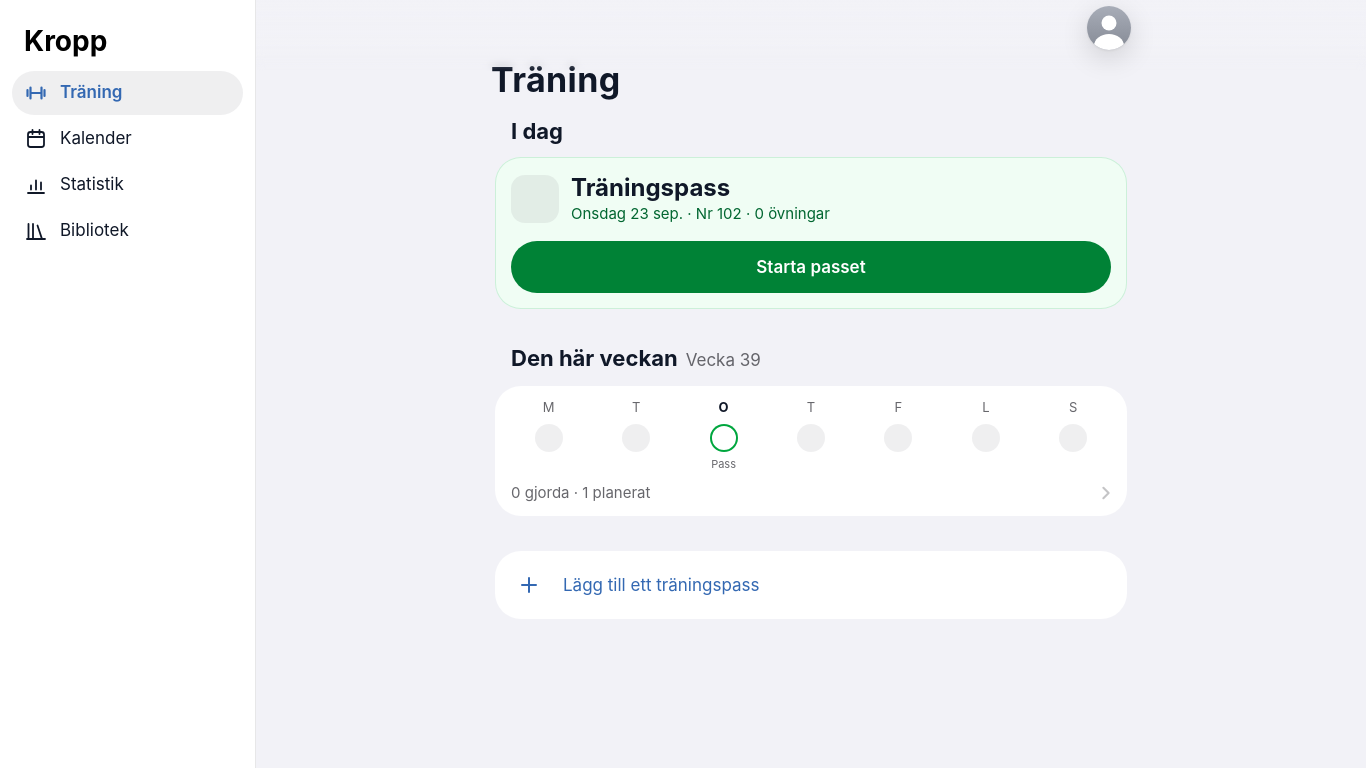
Test: plans another workout from a template beside an existing plan
The image size is (1366, 768).
Click the button with test id "open-planning": point(661, 585) x1=495 y1=551 x2=1127 y2=619
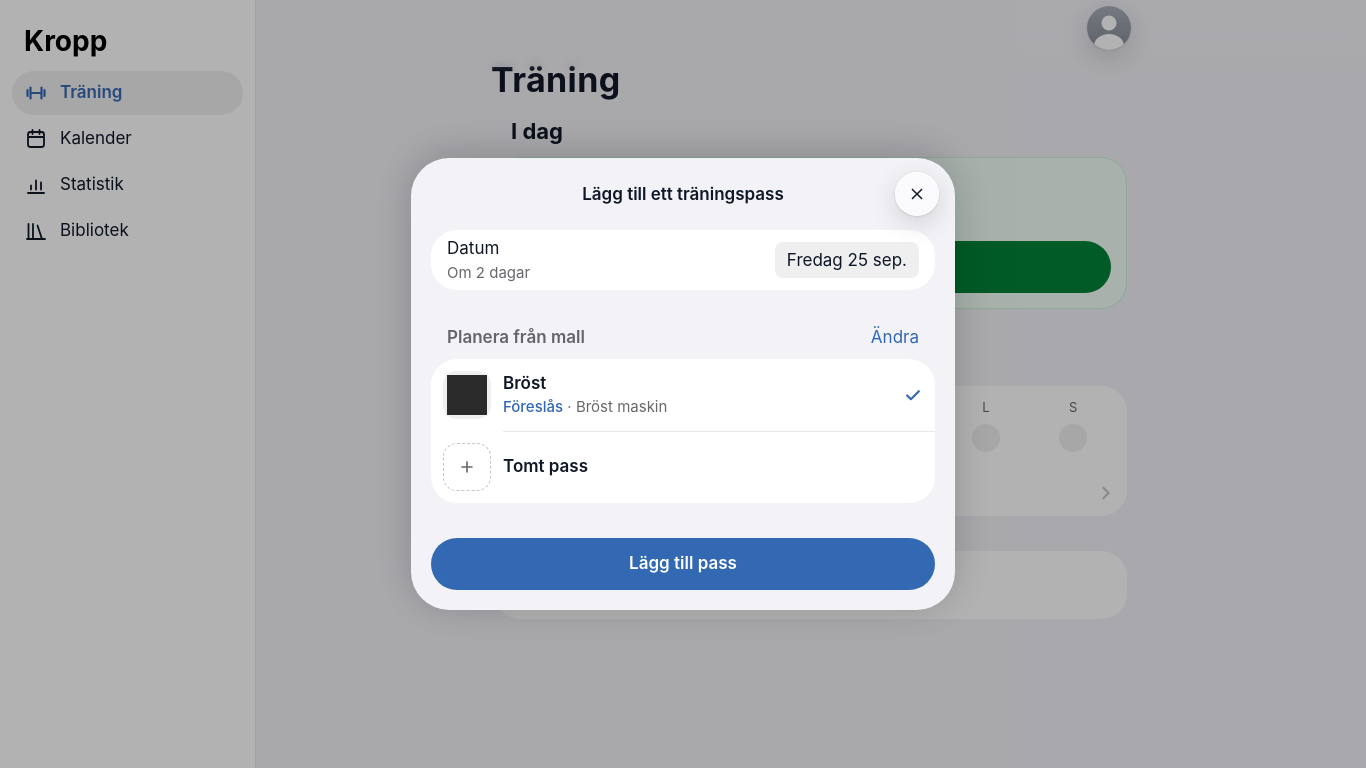
Expected: the text with class "font-semibold" reads "Bröst", x1=503 y1=373 x2=546 y2=393
Expected: the text with test id "next-date" reads "fredag 25 sep.", x1=787 y1=250 x2=907 y2=270
Expected: the text with test id "plan-days" reads "Om 2 dagar", x1=447 y1=263 x2=530 y2=282
Click the button with test id "confirm-plan": point(683, 564) x1=431 y1=538 x2=935 y2=590
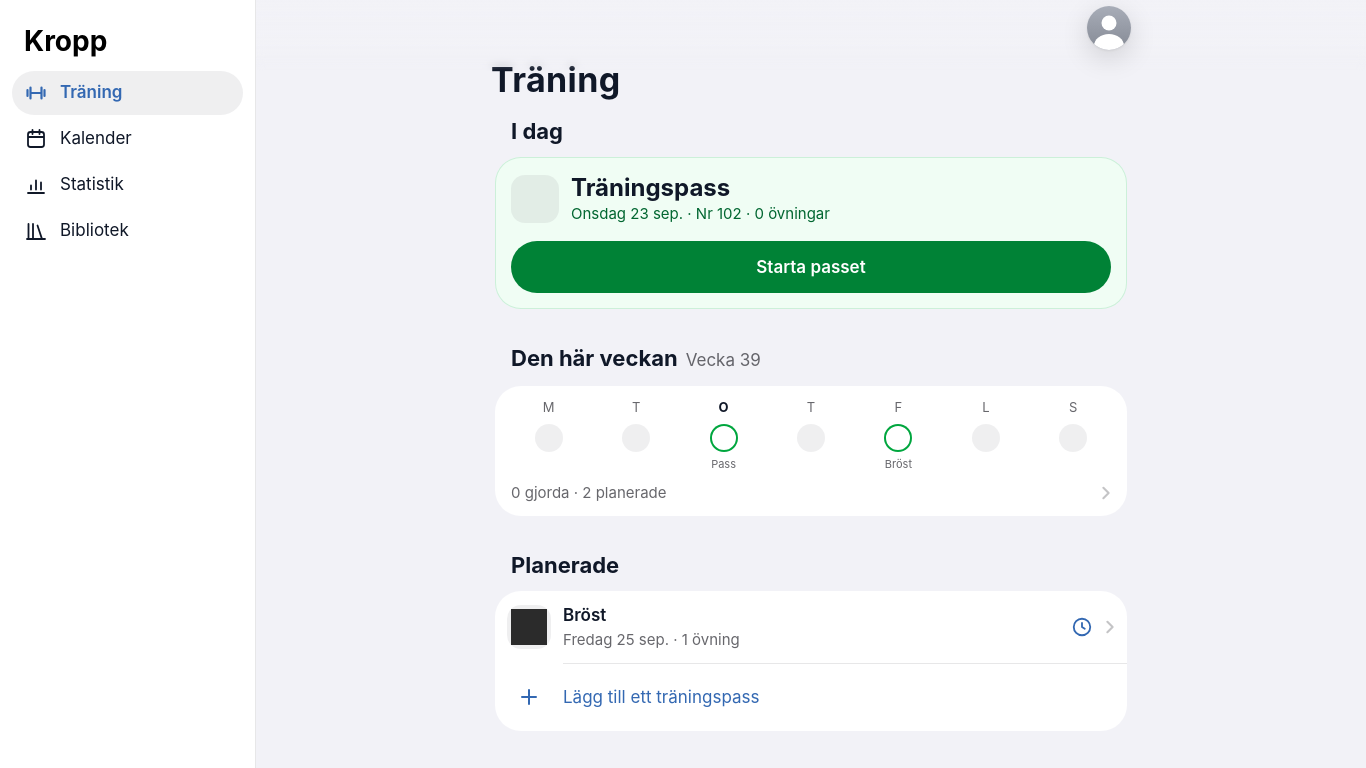
Expected: the dialog with test id "planning-sheet" is gone
